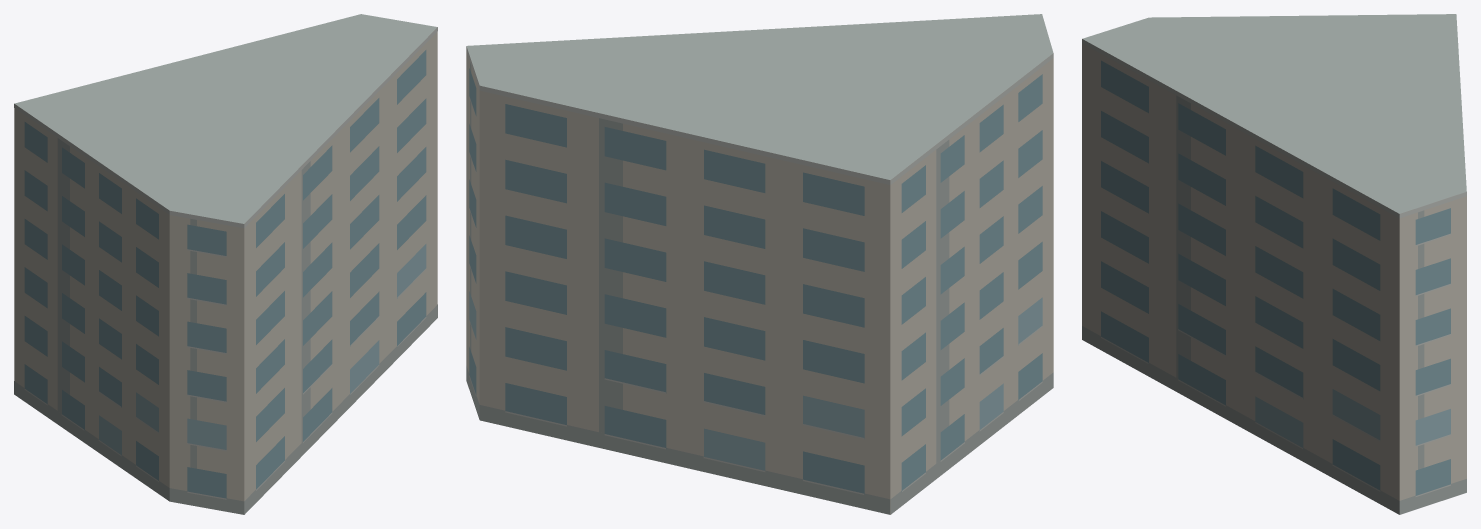
Rendered from survey-upis-32929685.glb.
The picture shows the model from 3 angles, left to right: view 1: azimuth 30°, elevation 25°; view 2: azimuth 150°, elevation 25°; view 3: azimuth 270°, elevation 25°; orthographic projection. The views are drawn at different scales.
Visible parts, largest first — view 1: survey-upis-32929685.tmp; view 2: survey-upis-32929685.tmp; view 3: survey-upis-32929685.tmp.
Part boxes in pixels (<box>): survey-upis-32929685.tmp: <box>14,14,437,514</box>; survey-upis-32929685.tmp: <box>466,14,1053,514</box>; survey-upis-32929685.tmp: <box>1082,14,1466,514</box>.
Bounding box in the file's own units: 23.16 × 16.25 × 18.84.
